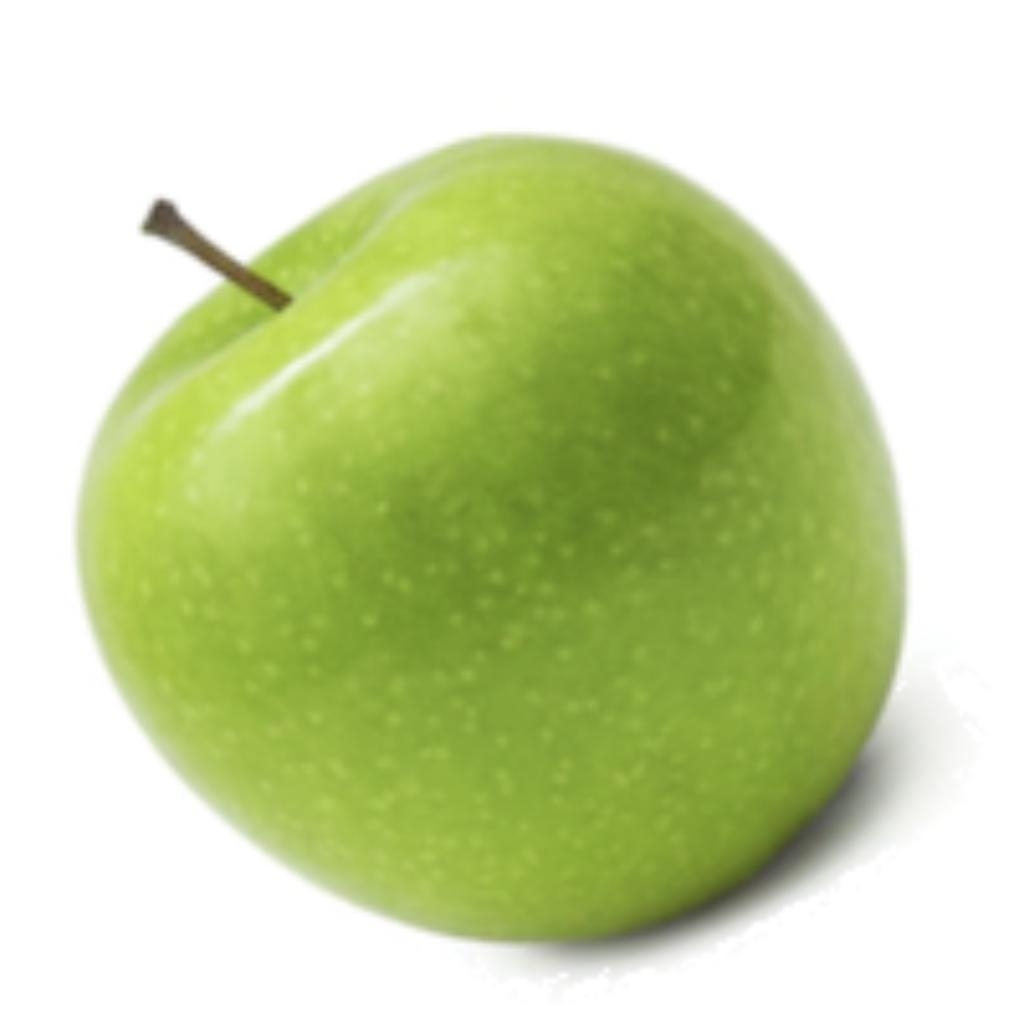apple: (67, 123, 978, 998)
